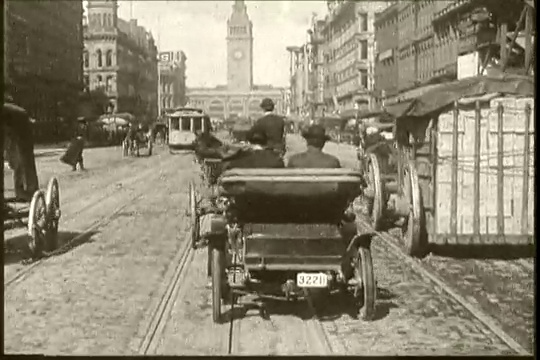car: (210, 134, 378, 326)
carriage: (328, 242, 377, 264)
